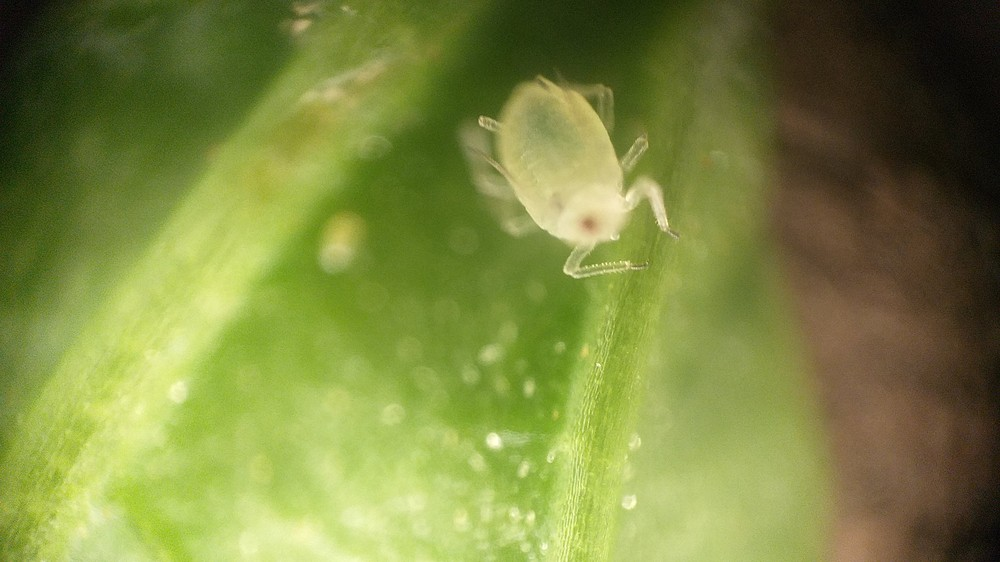Pulgon: (442, 56, 713, 309)
